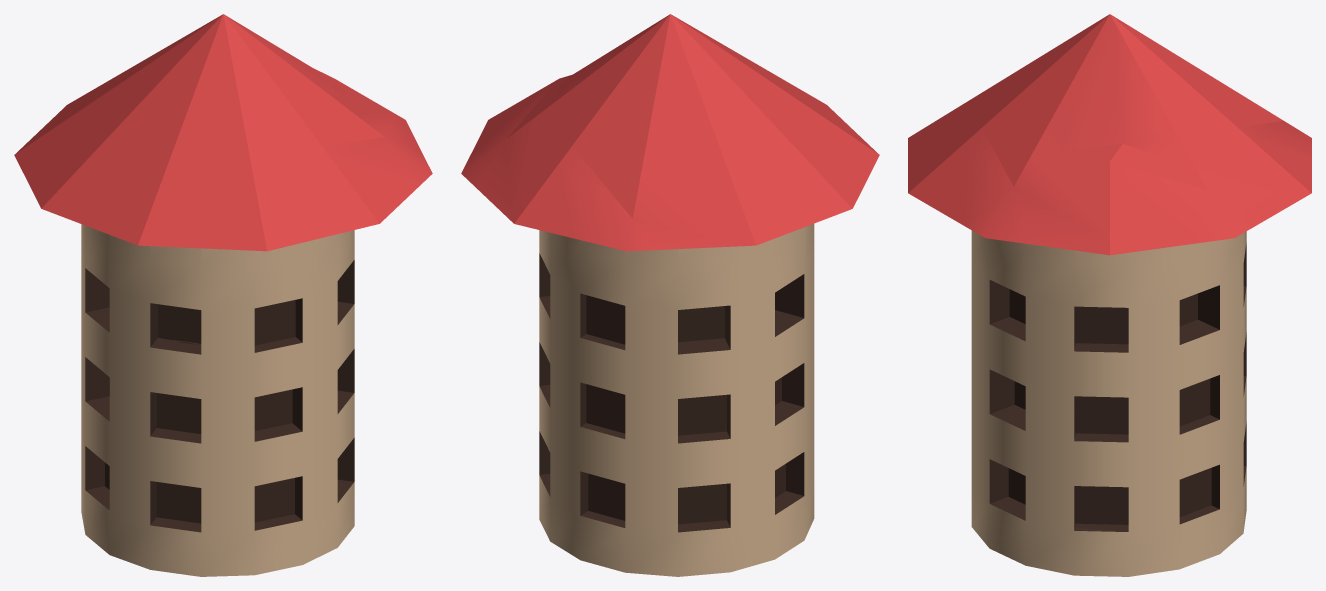
Rendered from Tower MiT.fbx.
3 renders of one model, left to right at view 1: azimuth 30°, elevation 25°; view 2: azimuth 150°, elevation 25°; view 3: azimuth 270°, elevation 25°, orthographic.
Visible parts, largest first — view 1: Tower_Mid; view 2: Tower_Mid; view 3: Tower_Mid.
Part boxes in pixels (x1,y1,x2,y2): Tower_Mid: (14,14,432,576); Tower_Mid: (461,14,879,576); Tower_Mid: (908,14,1311,576).
Bounding box in the file's own units: 104 × 137 × 98.91.
